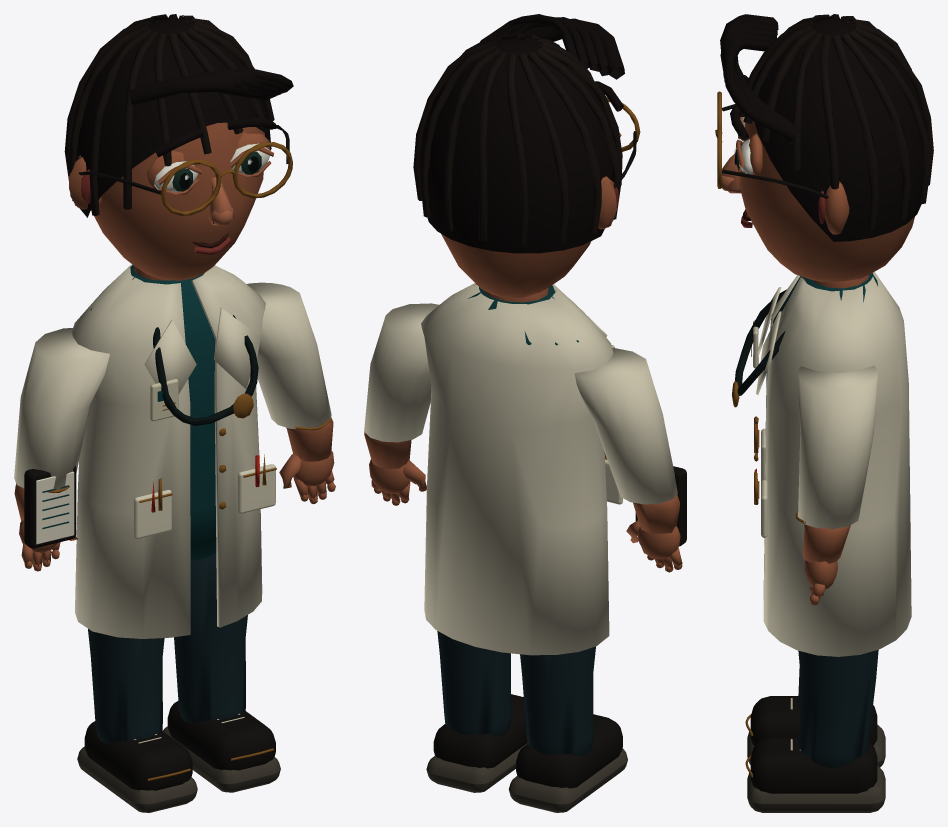
Rendered from doctor-01.glb.
The picture shows the model from 3 angles, left to right: view 1: azimuth 30°, elevation 25°; view 2: azimuth 150°, elevation 25°; view 3: azimuth 270°, elevation 25°; orthographic projection. The views are drawn at different scales.
Parts seen in each view (by area): view 1: Body, Head, LegR, ArmL, LegL, ArmR; view 2: Body, Head, ArmL, LegL, LegR, ArmR; view 3: Head, Body, LegR, ArmR, LegL.
Boxes of the visible parts, box(x1,y1,x2,y2) form: Body: box(72, 264, 276, 638); Head: box(64, 14, 293, 280); LegR: box(163, 554, 280, 792); ArmL: box(14, 328, 109, 571); LegL: box(77, 629, 197, 812); ArmR: box(247, 282, 335, 504); Body: box(421, 283, 622, 655); Head: box(413, 14, 640, 297); ArmL: box(574, 347, 686, 572); LegL: box(508, 646, 627, 812); LegR: box(426, 631, 527, 792); ArmR: box(364, 303, 439, 505); Head: box(715, 14, 933, 282); Body: box(732, 272, 911, 656); LegR: box(745, 649, 885, 812); ArmR: box(795, 365, 877, 605); LegL: box(745, 668, 885, 767).
Bounding box in the file's own units: 0.5978 × 1.36 × 0.3571.
